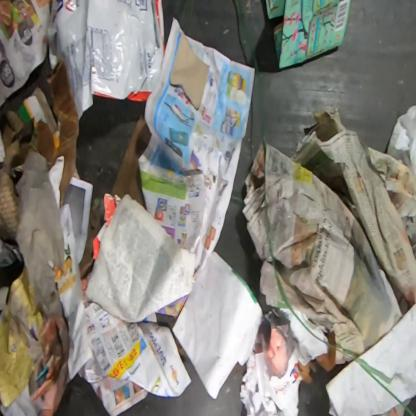cardboard: (0, 60, 80, 244), (266, 1, 352, 69), (170, 32, 209, 112)
soft_plastic: (46, 0, 165, 118)
